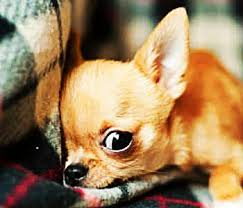chihuahua: (45, 5, 243, 197)
